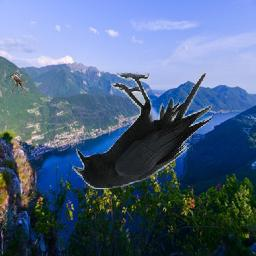Crow: (73, 71, 214, 189)
Cuckoo: (10, 74, 27, 97)
